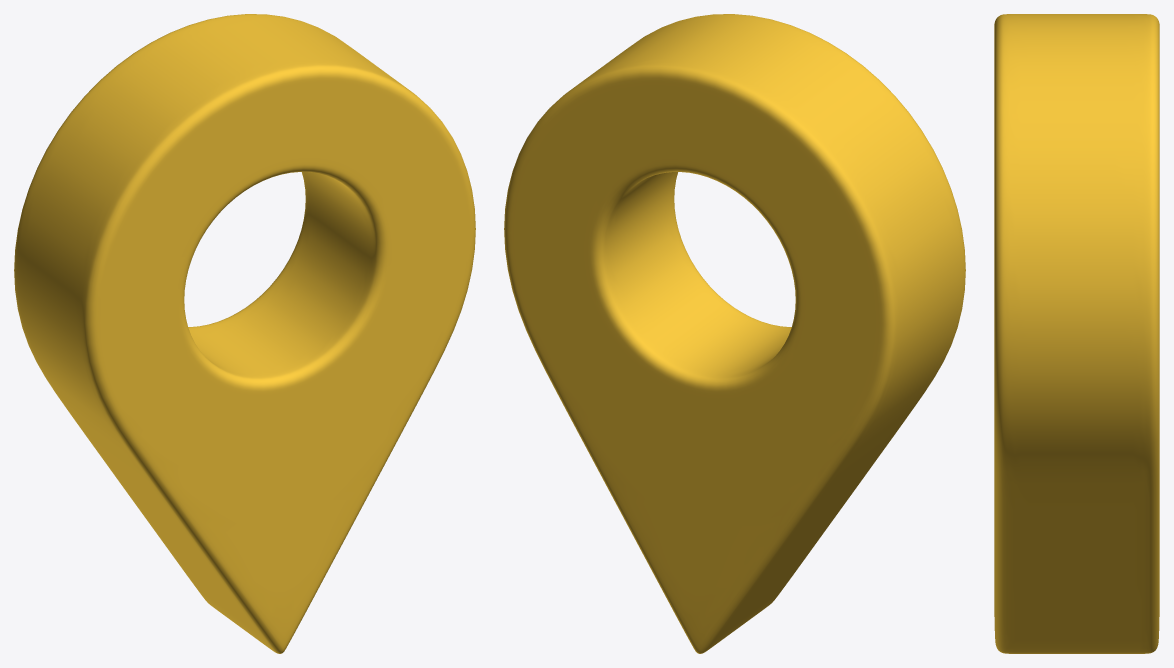
The model's file is location-optimized.glb.
The picture shows the model from 3 angles, left to right: view 1: azimuth 30°, elevation 25°; view 2: azimuth 150°, elevation 25°; view 3: azimuth 270°, elevation 25°; orthographic projection. The views are drawn at different scales.
Visible parts, largest first — view 1: Map-Pin; view 2: Map-Pin; view 3: Map-Pin.
Boxes of the visible parts, x1,y1,x2,y2 form: Map-Pin: (14,14,475,653); Map-Pin: (504,14,965,653); Map-Pin: (994,14,1159,653).
Size of the model in its own units: 1.24 by 1.77 by 0.4299.
